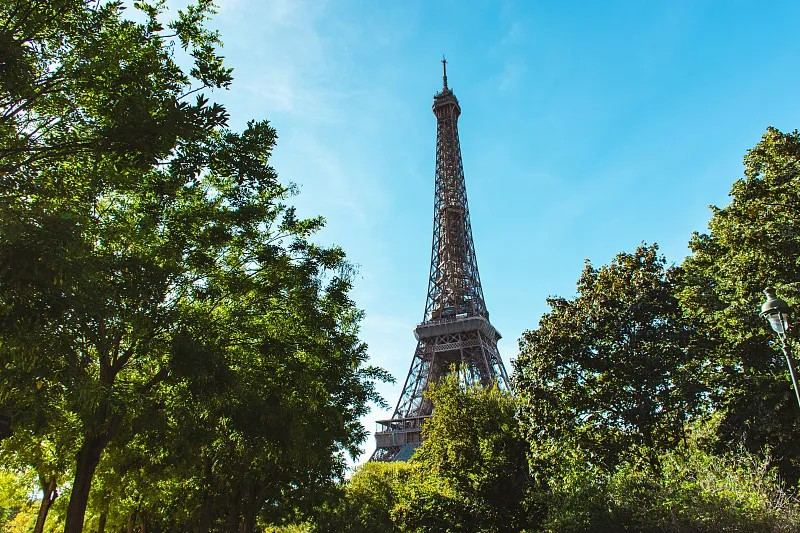Eiffel: (368, 54, 519, 461)
